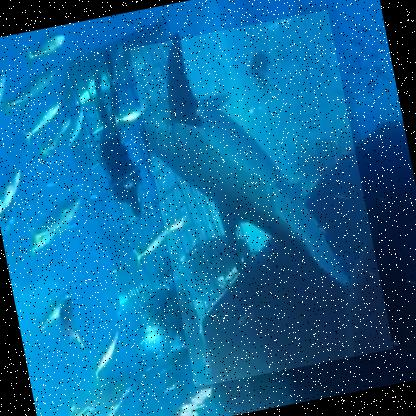white-shark: (128, 9, 393, 387)
